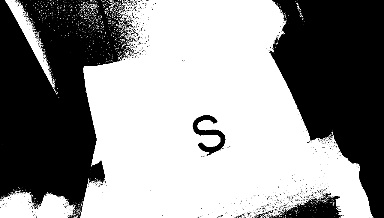S: (186, 110, 232, 156)
